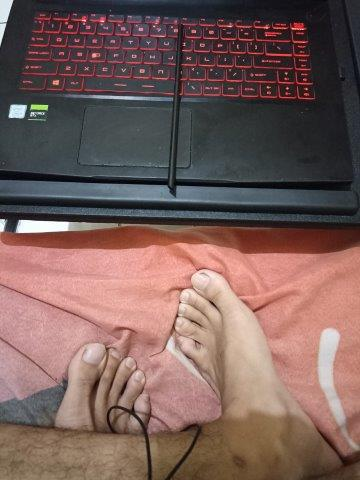sedotan: (168, 25, 183, 191)
